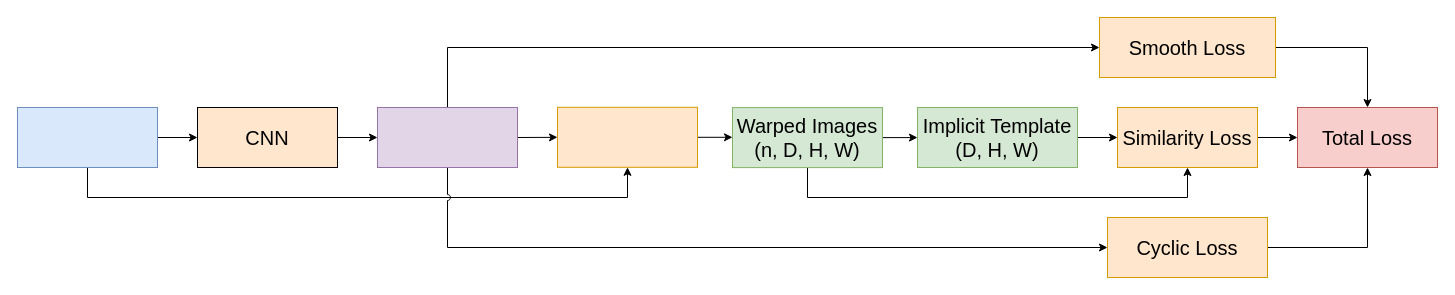
Some shapes in this 1455 by 295 pixel diagram are drawn without their labels. Each missing label, with the box of its shape:
Disp. Field (n, 3, D, H, W): (376, 106, 518, 168)
Input Images (n, D, H, W): (16, 106, 158, 168)
Spatial Transformer: (556, 106, 698, 167)
